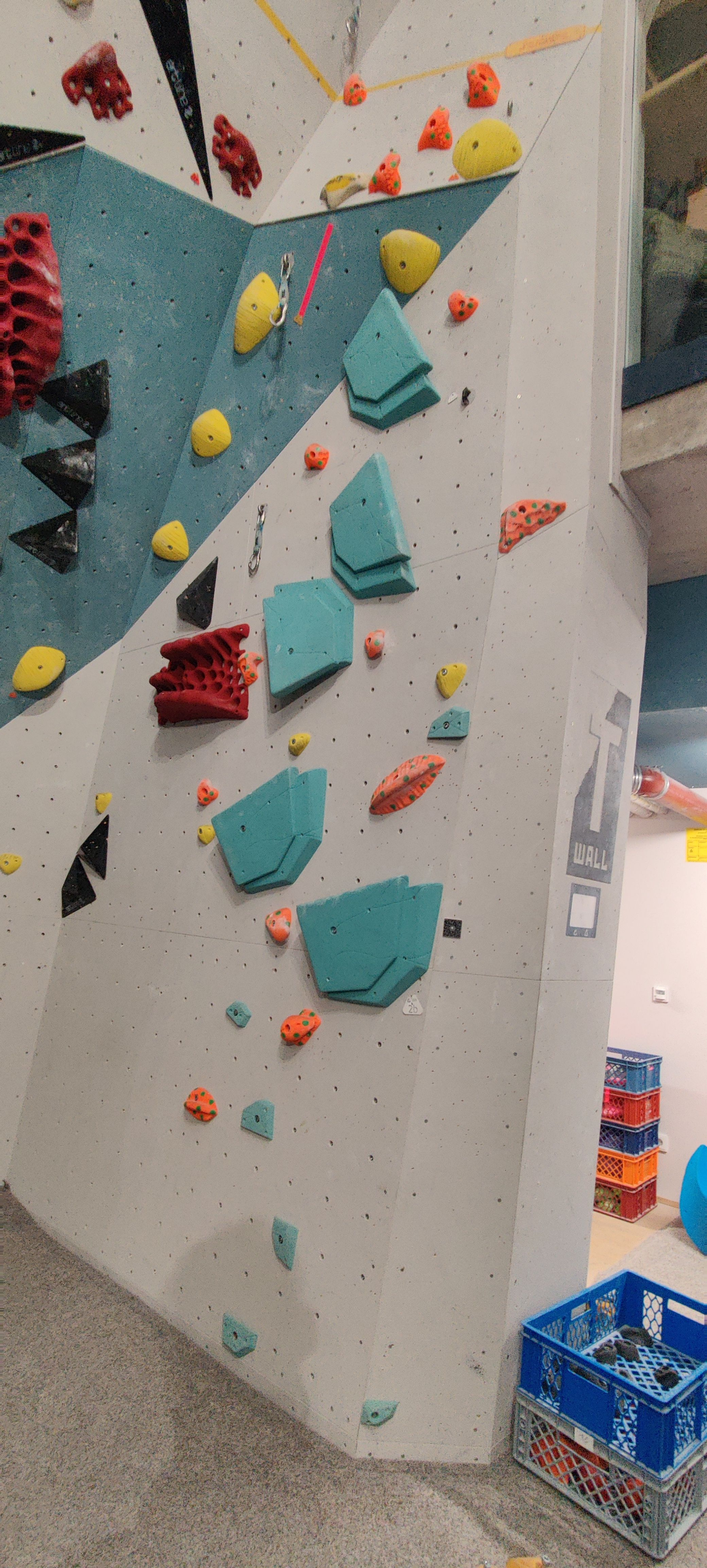hold: (298, 877, 438, 1004), (140, 0, 212, 200), (210, 767, 323, 889), (344, 289, 440, 429), (330, 454, 416, 598), (2, 216, 63, 419), (263, 577, 353, 699), (150, 623, 249, 725), (40, 359, 110, 438), (22, 439, 96, 508), (63, 44, 132, 115), (10, 510, 78, 573), (210, 112, 261, 193), (0, 124, 85, 170), (452, 120, 518, 179), (369, 755, 438, 811), (379, 230, 438, 291), (235, 274, 282, 350), (499, 500, 563, 552), (13, 646, 65, 692), (176, 559, 212, 625), (62, 855, 96, 917), (191, 409, 231, 459), (79, 815, 109, 879), (152, 520, 189, 561), (465, 61, 497, 105), (426, 708, 467, 737), (222, 1316, 252, 1355), (418, 108, 448, 147), (369, 154, 399, 193), (281, 1012, 318, 1043), (274, 1220, 296, 1269), (323, 174, 359, 203), (242, 1100, 271, 1134), (362, 1399, 396, 1426), (238, 650, 263, 686), (436, 664, 465, 693), (186, 1088, 212, 1120), (448, 291, 475, 321), (266, 909, 291, 938), (343, 76, 365, 105), (197, 780, 218, 805), (228, 1002, 249, 1026), (306, 446, 328, 468), (365, 632, 381, 654), (198, 824, 215, 844), (289, 735, 308, 752), (506, 1558, 543, 1565), (0, 855, 17, 870), (96, 794, 107, 811)
